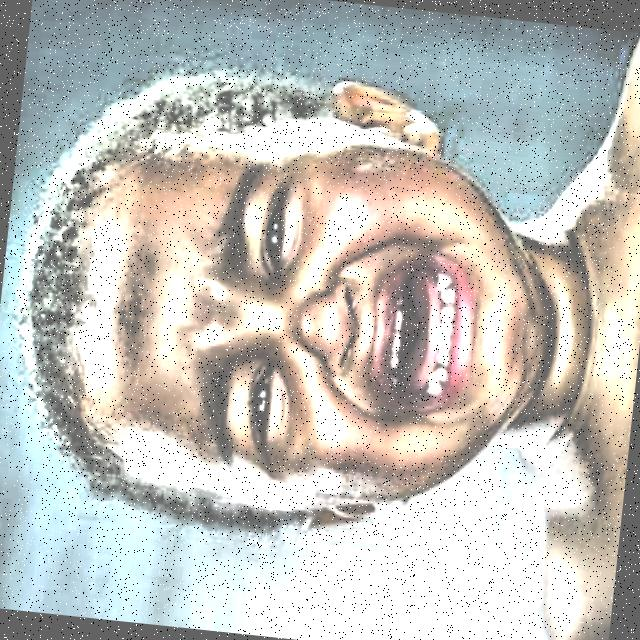sad: (0, 3, 574, 590)
